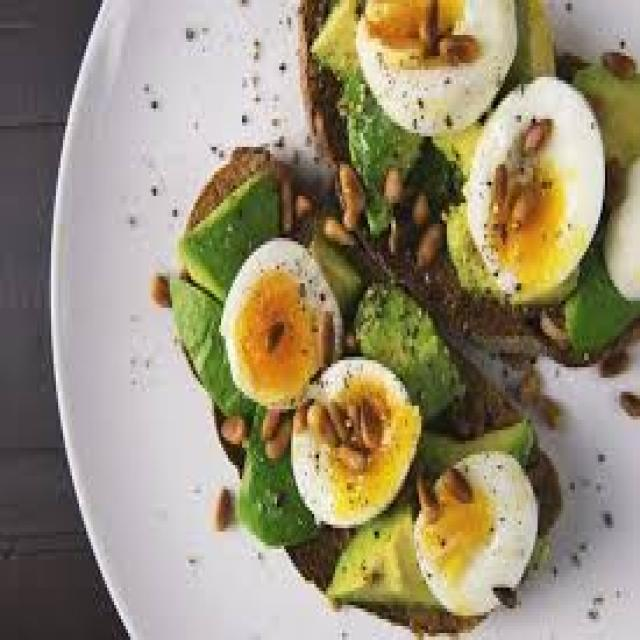Organik: (129, 0, 640, 640), (352, 3, 640, 297), (207, 232, 420, 536)
